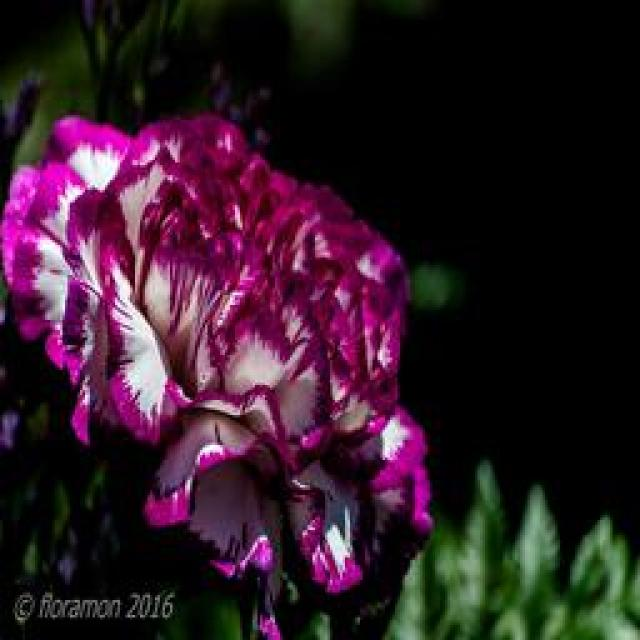carnation: (0, 90, 490, 594)
